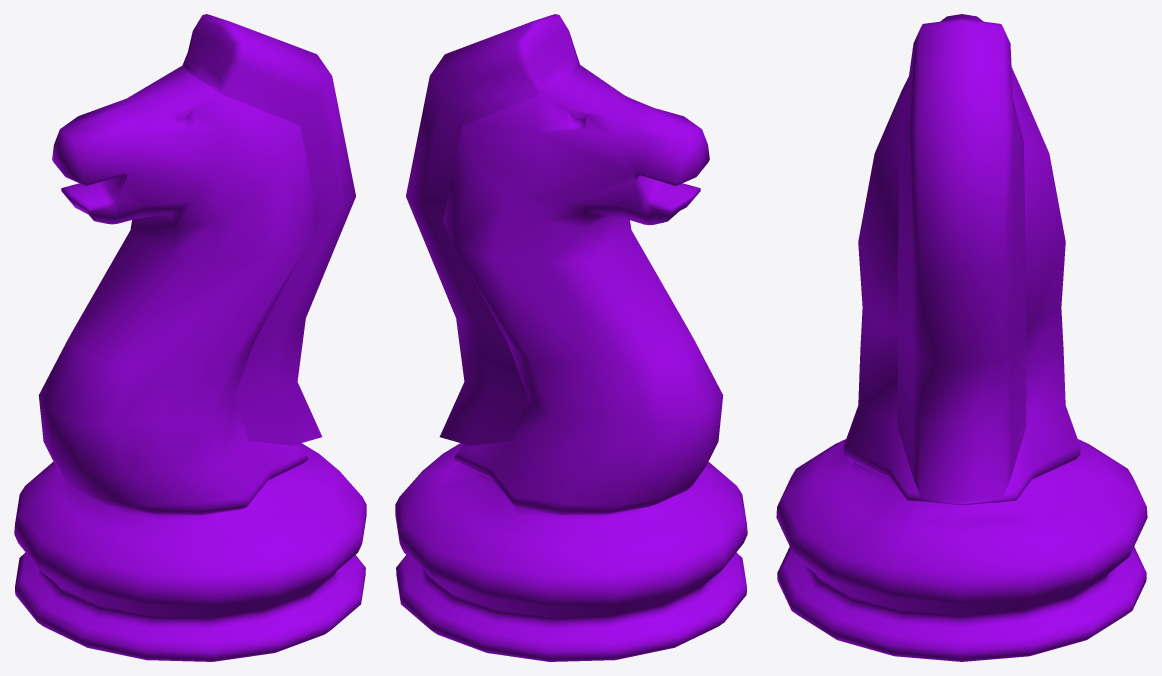
File: Knight.glb
3 renders of one model, left to right at view 1: azimuth 30°, elevation 25°; view 2: azimuth 150°, elevation 25°; view 3: azimuth 270°, elevation 25°, orthographic. The views are drawn at different scales.
Visible parts, largest first — view 1: SM_BlackKnight; view 2: SM_BlackKnight; view 3: SM_BlackKnight.
Boxes of the visible parts, box(x1,y1,x2,y2) form: SM_BlackKnight: box(14, 14, 366, 661); SM_BlackKnight: box(395, 14, 747, 661); SM_BlackKnight: box(776, 14, 1147, 661).
Bounding box in the file's own units: 0.551 × 0.9684 × 0.5514.
